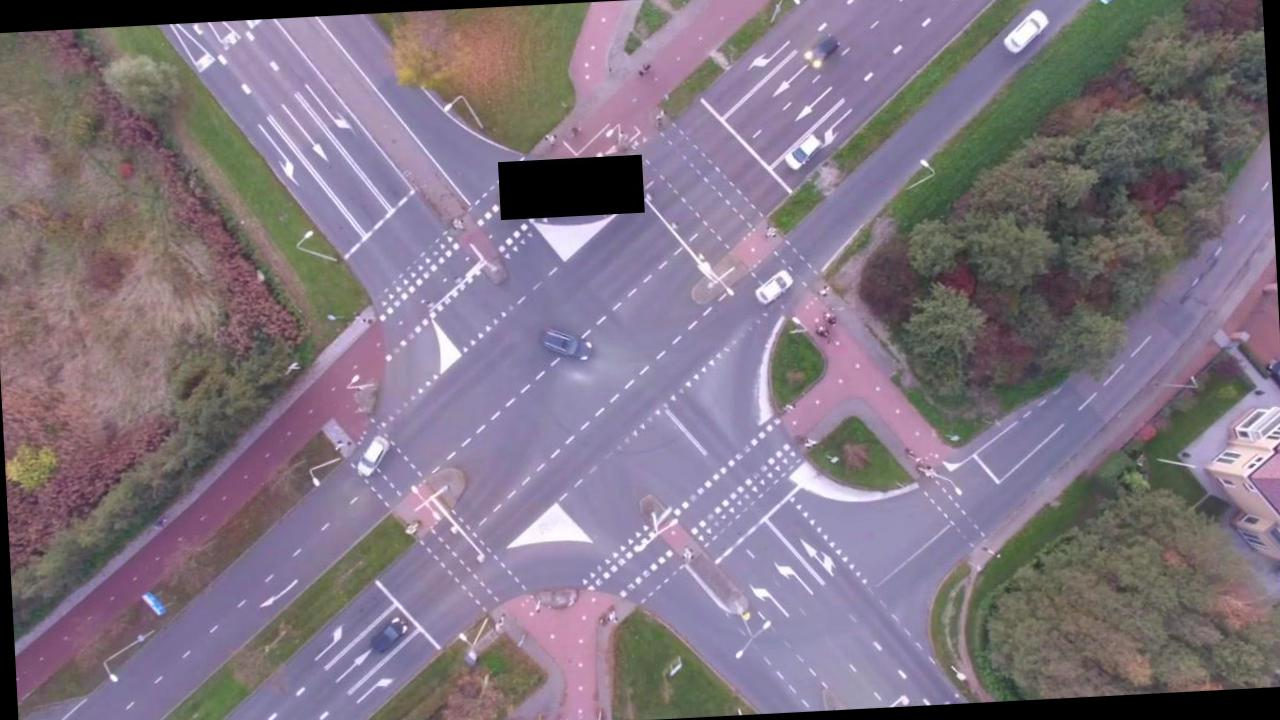vehicle: (536, 322, 593, 364), (1001, 8, 1050, 56), (751, 266, 794, 305), (367, 616, 408, 656), (782, 132, 822, 171), (354, 434, 390, 477), (805, 33, 841, 68)
